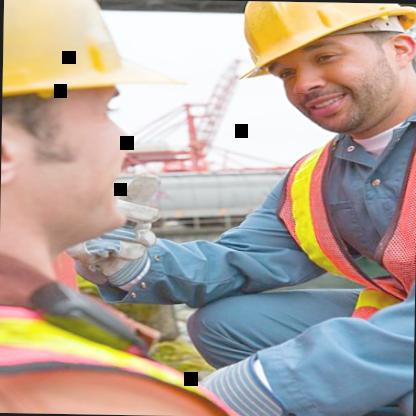helmet: (0, 0, 166, 260), (209, 0, 416, 139)
